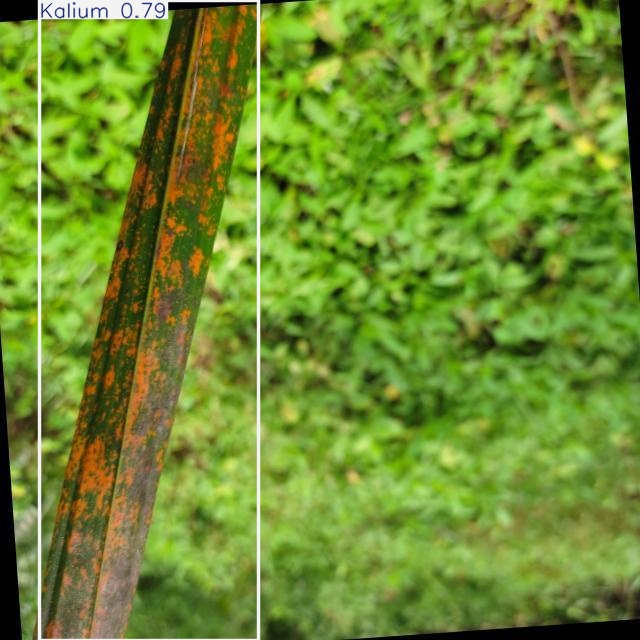Kalium: (40, 1, 259, 640)
